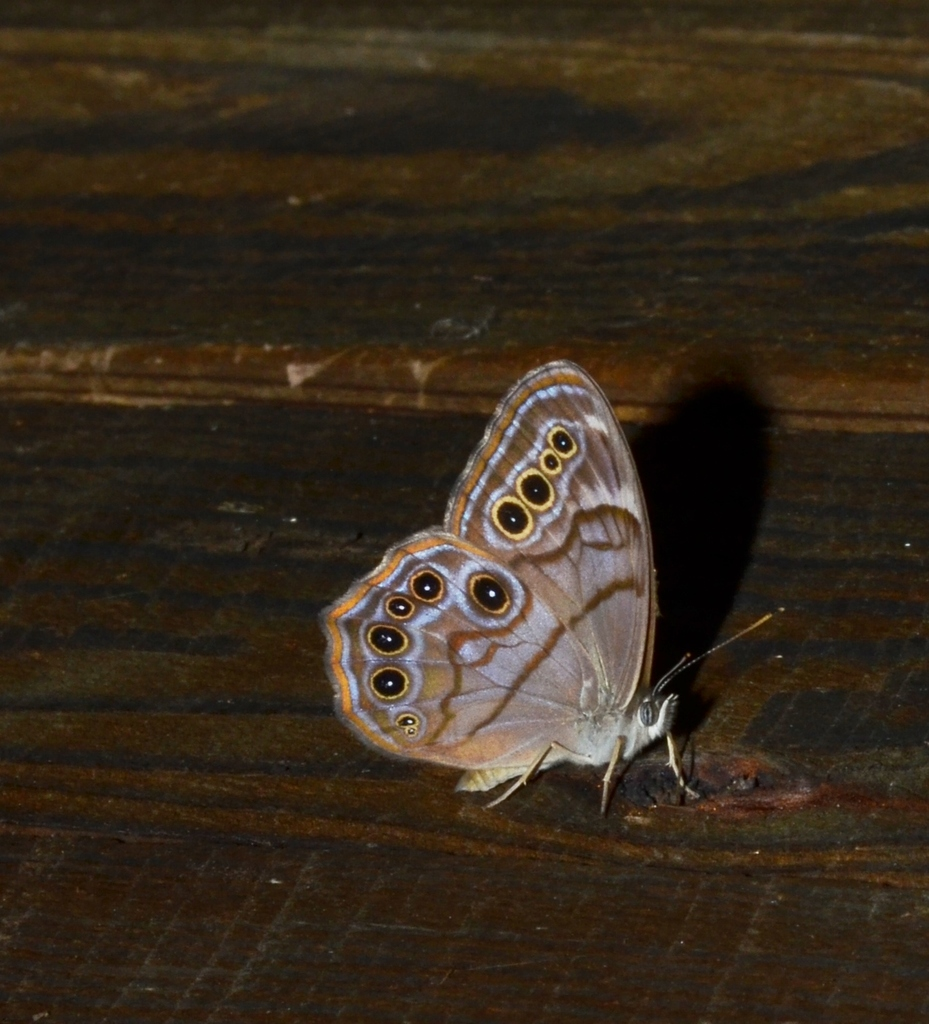Butterfly: (324, 322, 718, 817)
